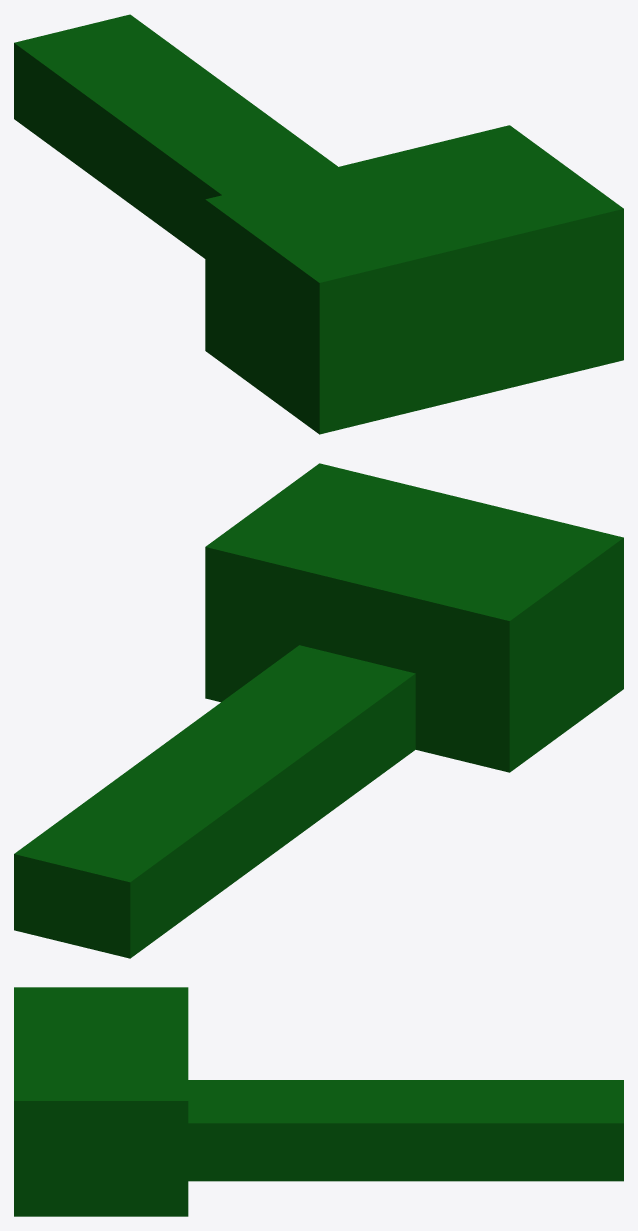
The model's file is NEW FC GRONINGEN MUSEUM.fbx.
3 renders of one model, top to bottom at view 1: azimuth 30°, elevation 25°; view 2: azimuth 150°, elevation 25°; view 3: azimuth 270°, elevation 25°, orthographic. The views are drawn at different scales.
Visible parts, largest first — view 1: room; view 2: room; view 3: room.
Boxes of the visible parts, bbox=[...] form: room: bbox=[14, 14, 623, 434]; room: bbox=[14, 463, 623, 958]; room: bbox=[14, 987, 623, 1216].
Size of the model in its own units: 19795 by 9414 by 45002.
